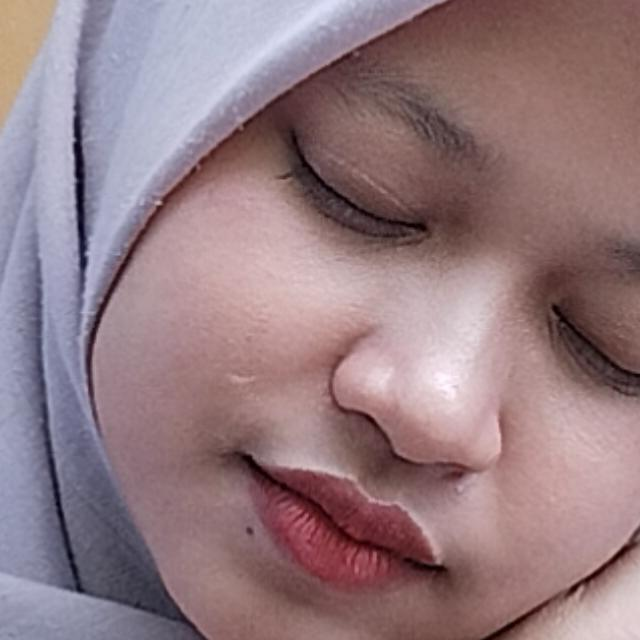tidur: (26, 228, 640, 640)
